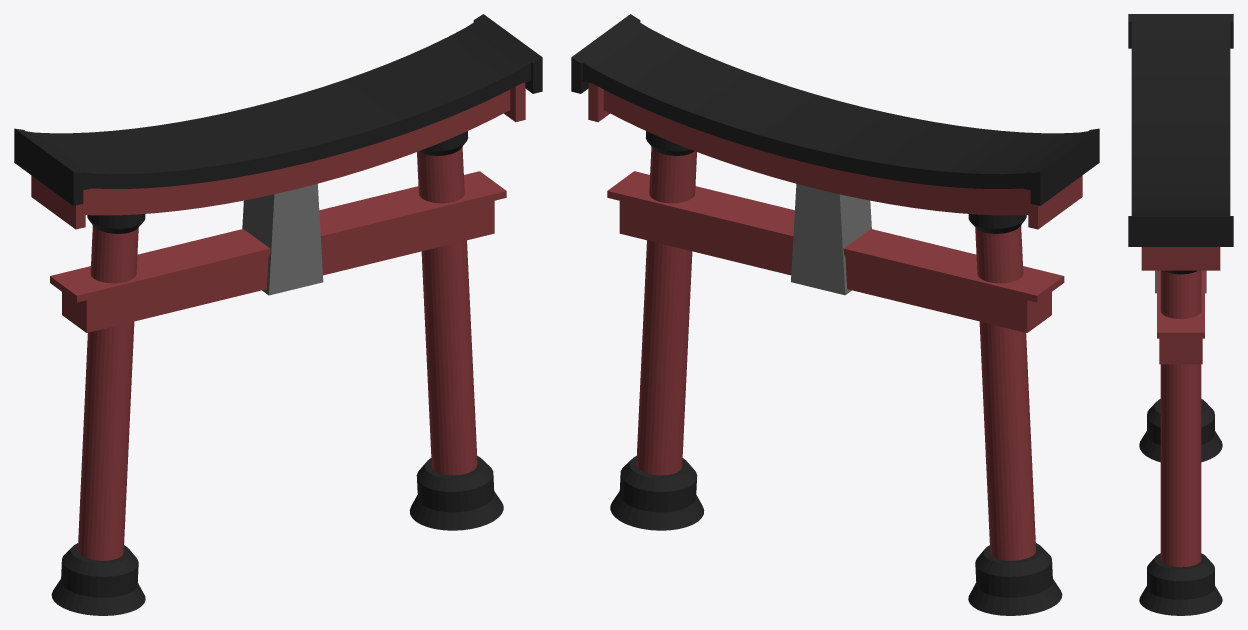
Rendered from Arches.fbx.
3 views of the same model, side by side, from view 1: azimuth 30°, elevation 25°; view 2: azimuth 150°, elevation 25°; view 3: azimuth 270°, elevation 25° (orthographic). The views are drawn at different scales.
Visible parts, largest first — view 1: Cube.154; view 2: Cube.154; view 3: Cube.154.
Boxes of the visible parts, x1,y1,x2,y2 form: Cube.154: (14, 14, 542, 615); Cube.154: (571, 14, 1099, 615); Cube.154: (1128, 14, 1233, 615).
Size of the model in its own units: 1005 by 946 by 220.
